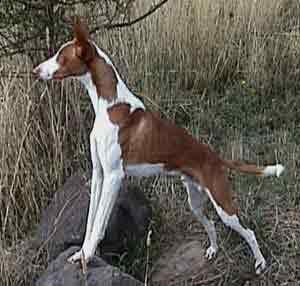Ibizan_hound: (31, 20, 284, 275)
